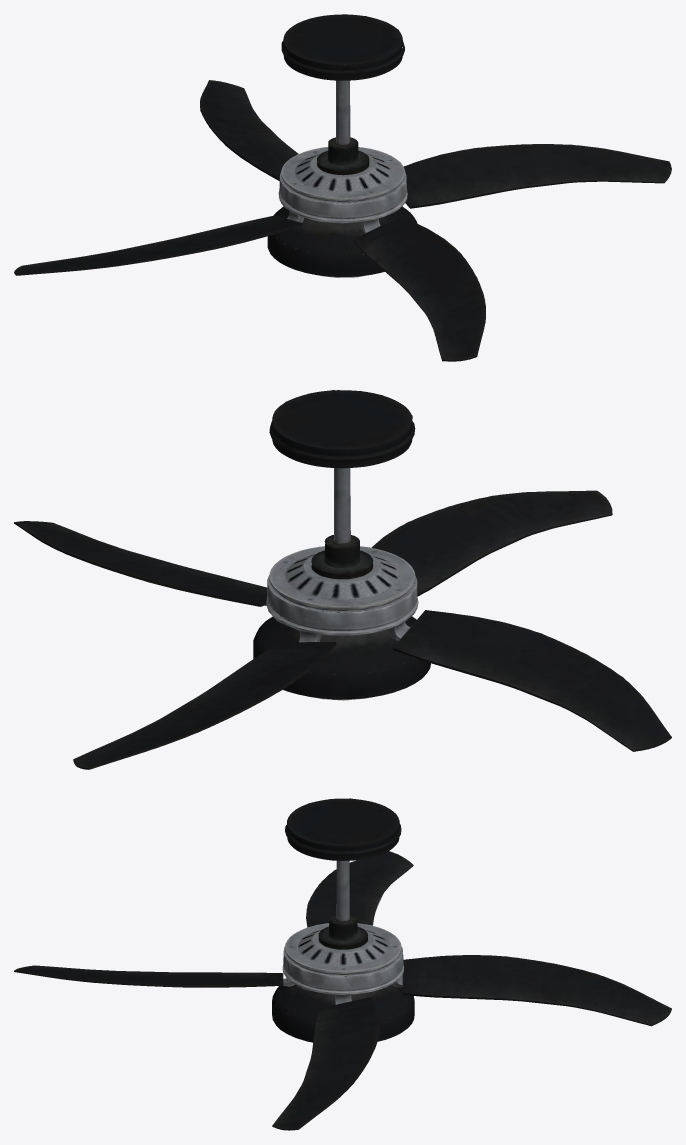
The model's file is ph_ceiling_fan.glb.
The picture shows the model from 3 angles, top to bottom: view 1: azimuth 30°, elevation 25°; view 2: azimuth 150°, elevation 25°; view 3: azimuth 270°, elevation 25°; orthographic projection. The views are drawn at different scales.
Parts seen in each view (by area): view 1: ceiling_fan; view 2: ceiling_fan; view 3: ceiling_fan.
Part boxes in pixels (x1,y1,x2,y2): ceiling_fan: [14, 14, 671, 361]; ceiling_fan: [14, 390, 671, 769]; ceiling_fan: [14, 798, 671, 1130].
Size of the model in its own units: 1.46 by 0.5163 by 1.46.
Materials: 1 (1 with a texture image).
